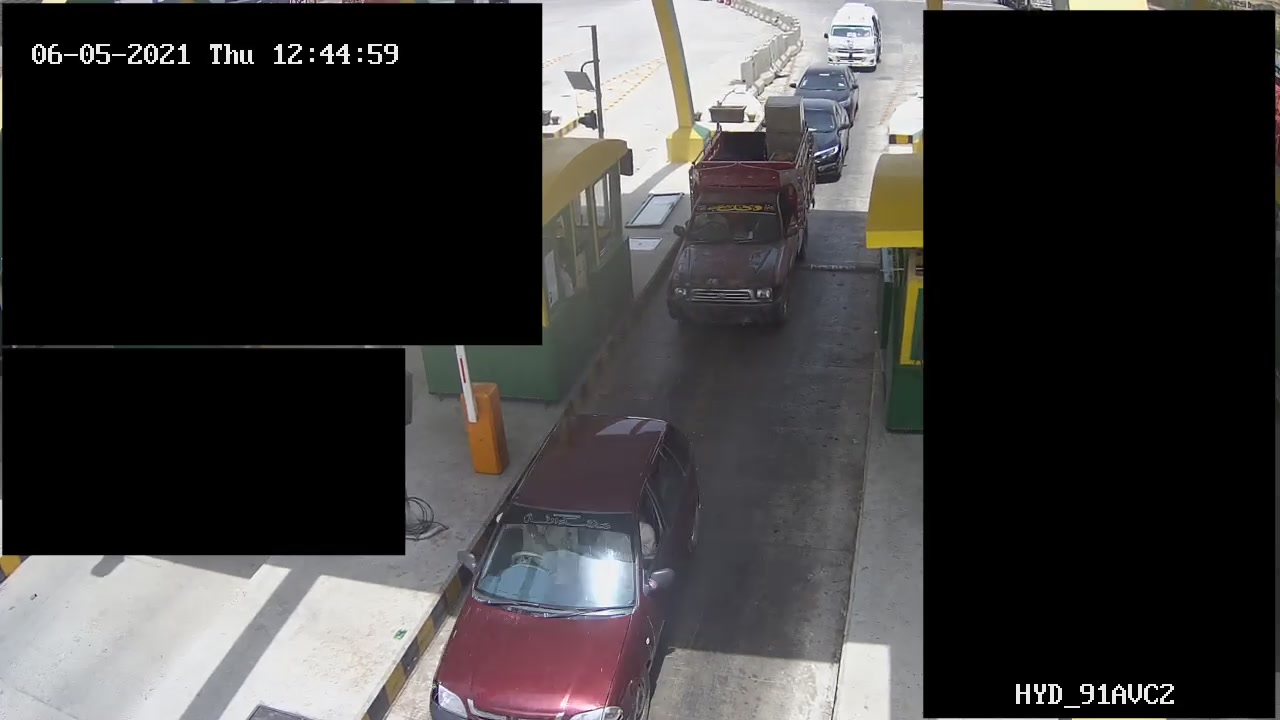F1: (660, 113, 820, 340)
